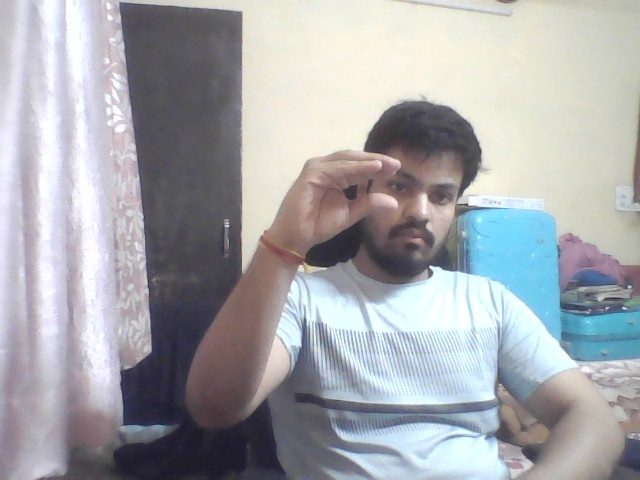No: (263, 130, 413, 284)
